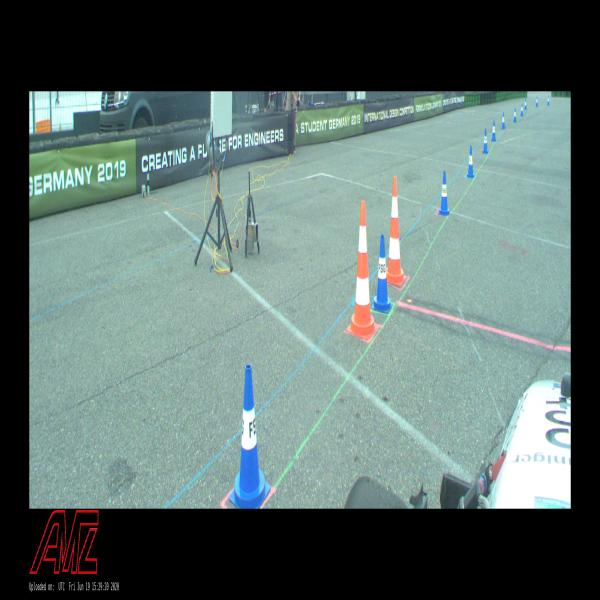blue_cone: (230, 364, 270, 509), (372, 234, 392, 314), (438, 171, 450, 216), (467, 145, 474, 178), (482, 128, 488, 154), (491, 120, 496, 142), (513, 108, 517, 122), (502, 113, 505, 129), (524, 99, 527, 110), (521, 104, 523, 116), (536, 96, 538, 106), (547, 95, 549, 105)
large_orange_cone: (347, 201, 378, 340), (386, 176, 406, 285)
